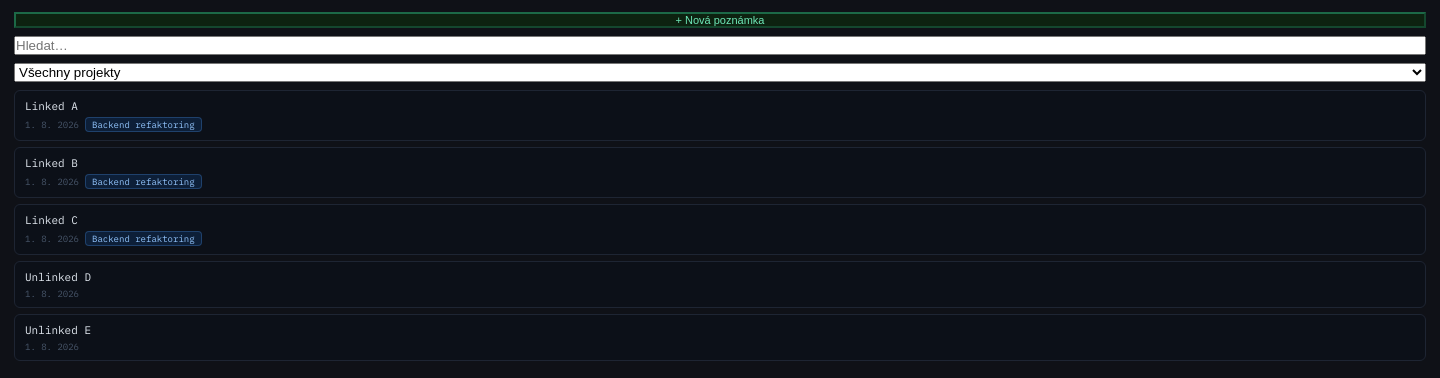
Test case: NoteList › filtr dle projektu zobrazí jen poznámky linkované na vybraný projekt
The width and height of the screenshot is (1440, 378).
Check: the text "Linked A" is shown 5 times, box [25,99,78,113]; [25,156,78,170]; [25,213,78,227]; [25,270,91,284]; [25,323,91,337]
Select "Backend refaktoring" in the dropdown. click: (720, 72)
box: [14,63,1426,82]
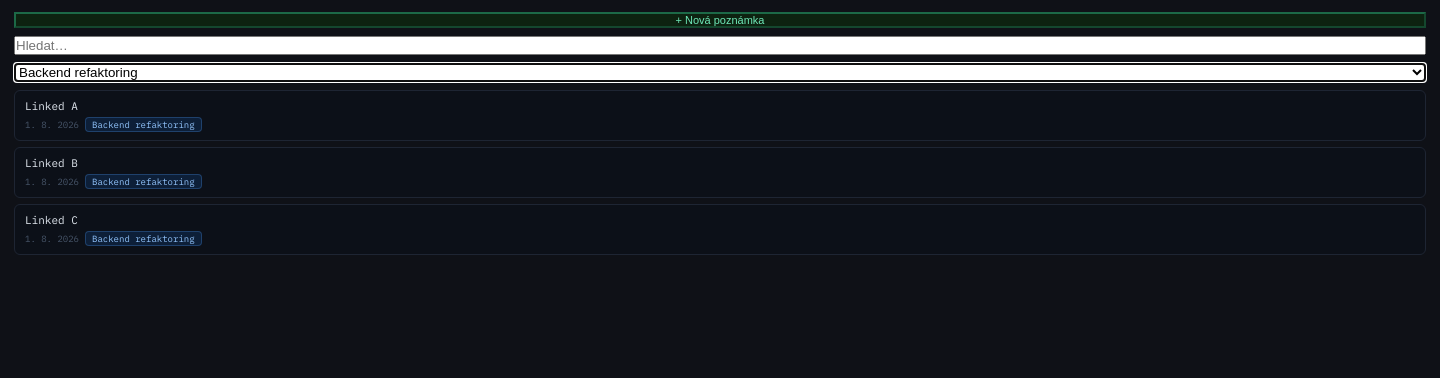
Check: the text "Linked A" is shown 3 times, box [25,99,78,113]; [25,156,78,170]; [25,213,78,227]
Check: the button "Unlinked" is gone
